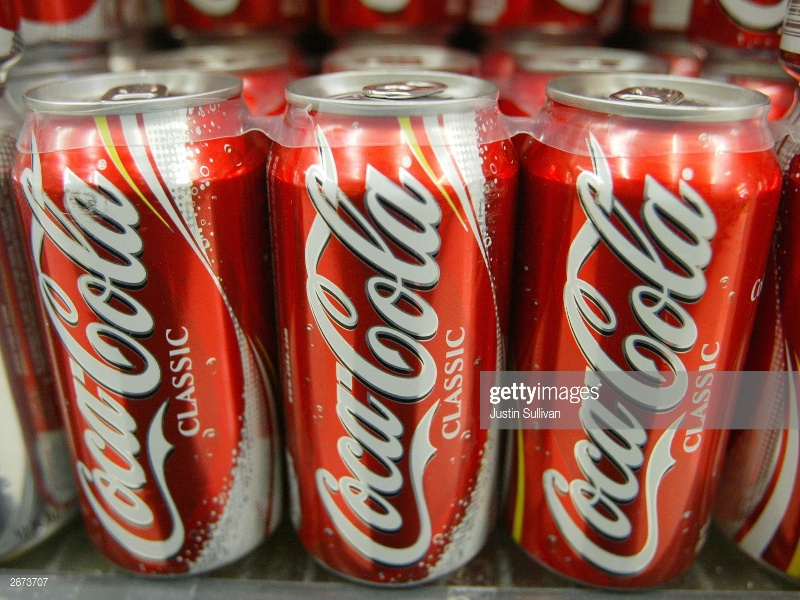coke-can: (282, 65, 528, 572), (53, 70, 265, 560), (528, 65, 724, 582)
